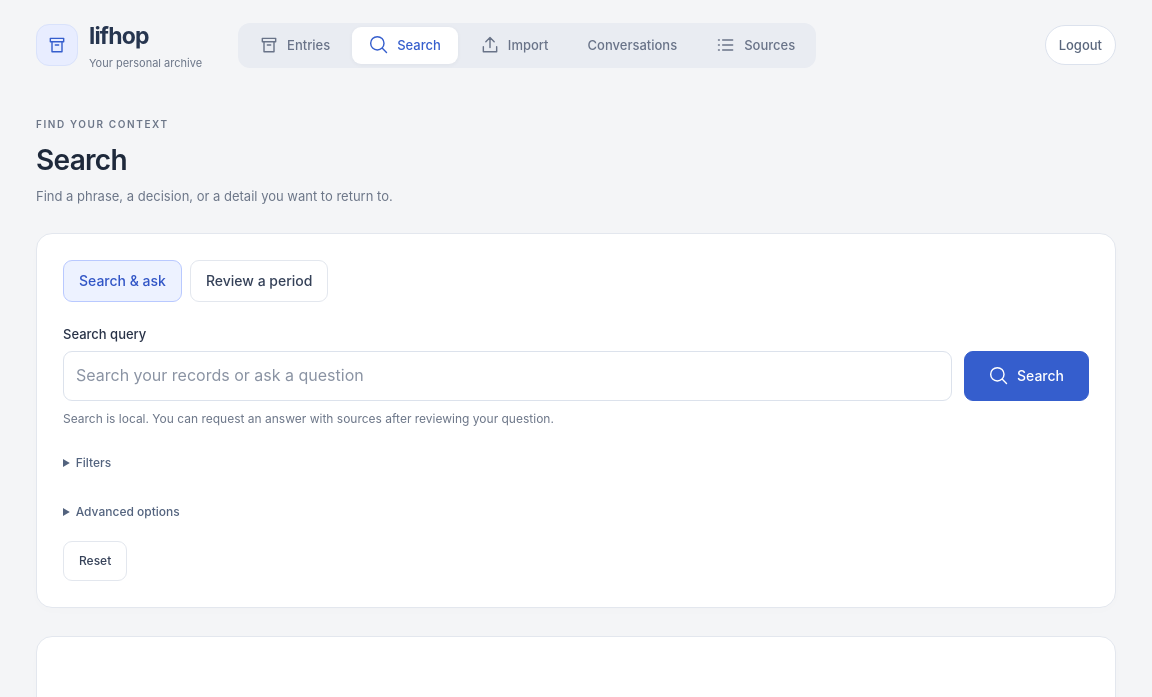
offers two user purposes and searches locally without an algorithm selector or provider checks
Expected: the button "Review a period" is shown, [190,260,328,302]
Step 1. Type "worker" into the field labelled "Search query" → (508, 376), box [63,351,952,401]
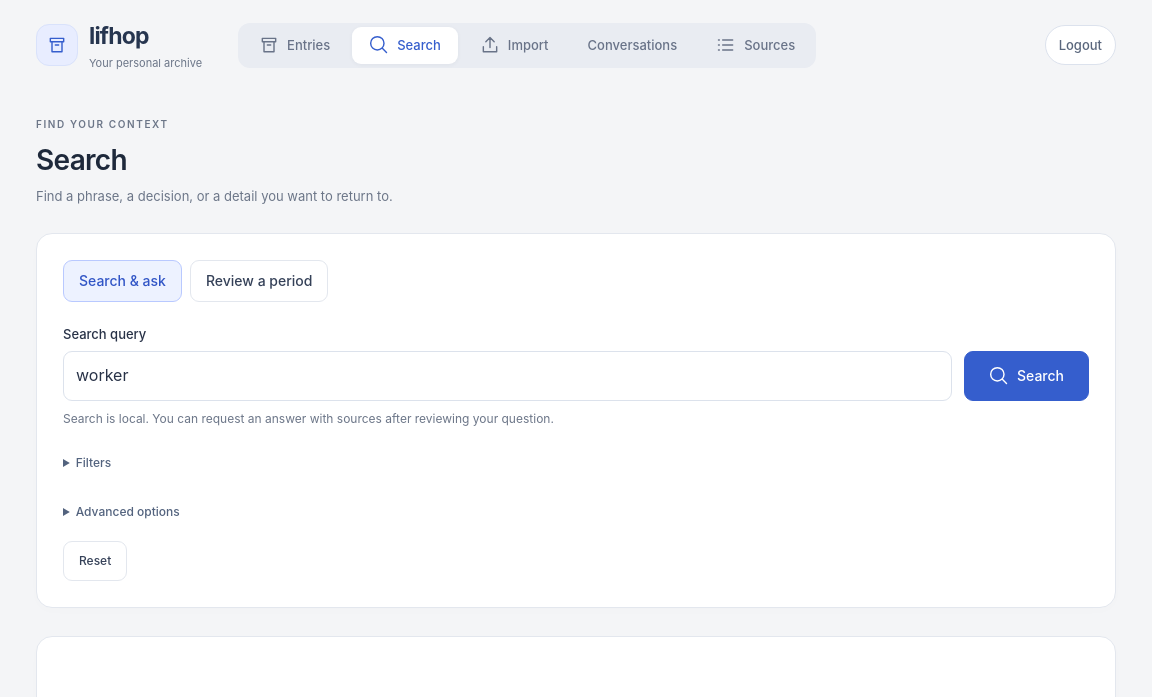
Step 2. Click the button "Search" → (1026, 376), box [964,351,1089,401]
(page scrolled)
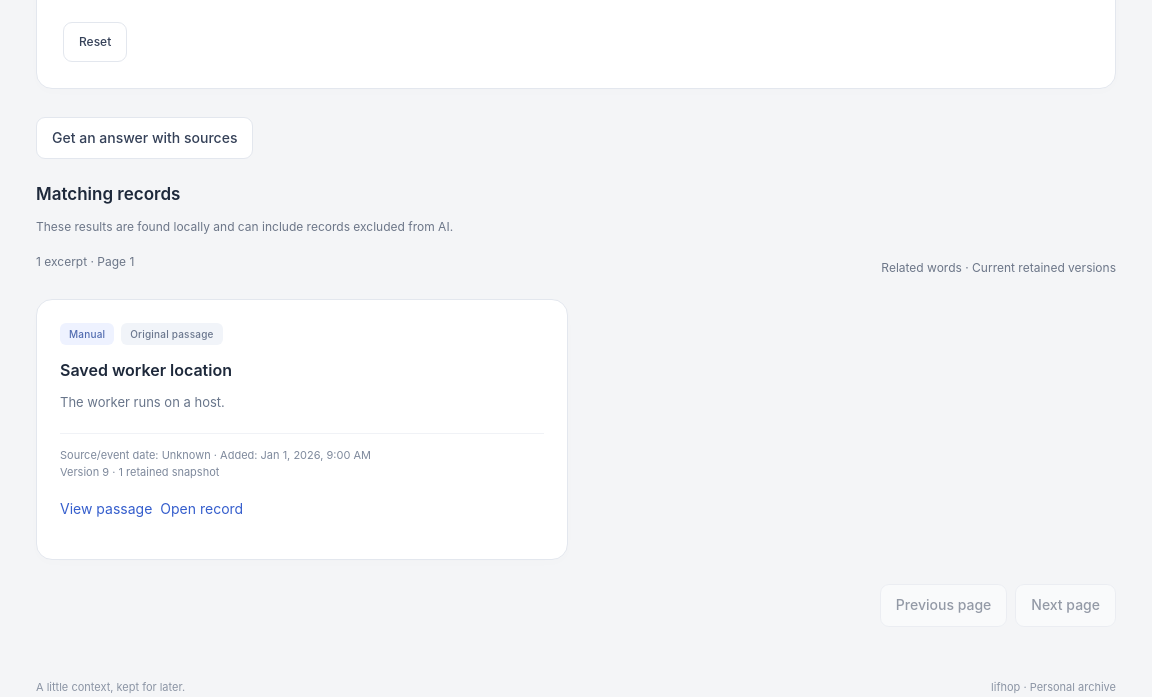
Now the heading "Saved worker location" is shown, box [60,360,232,380]
